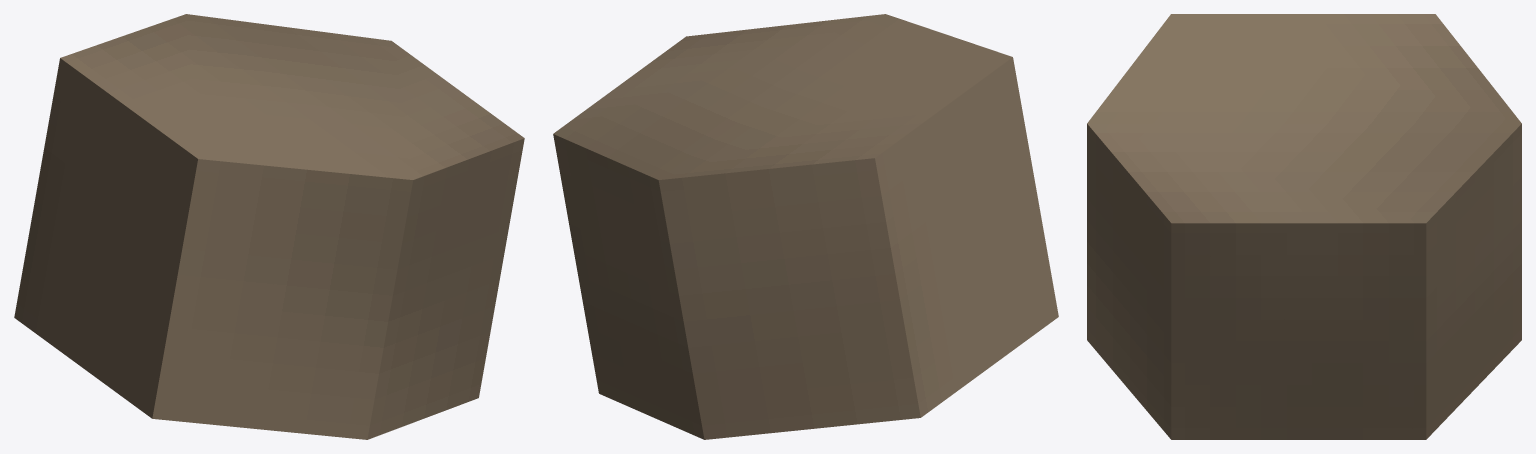
Rendered from button0.glb.
The picture shows the model from 3 angles, left to right: view 1: azimuth 30°, elevation 25°; view 2: azimuth 150°, elevation 25°; view 3: azimuth 270°, elevation 25°; orthographic projection. The views are drawn at different scales.
Visible parts, largest first — view 1: Cube.006; view 2: Cube.006; view 3: Cube.006.
Boxes of the visible parts, <box> form: Cube.006: <box>14,14,524,439</box>; Cube.006: <box>553,14,1058,439</box>; Cube.006: <box>1087,14,1521,439</box>.
Size of the model in its own units: 0.2141 by 0.169 by 0.226.
1 material, 1 textured.
